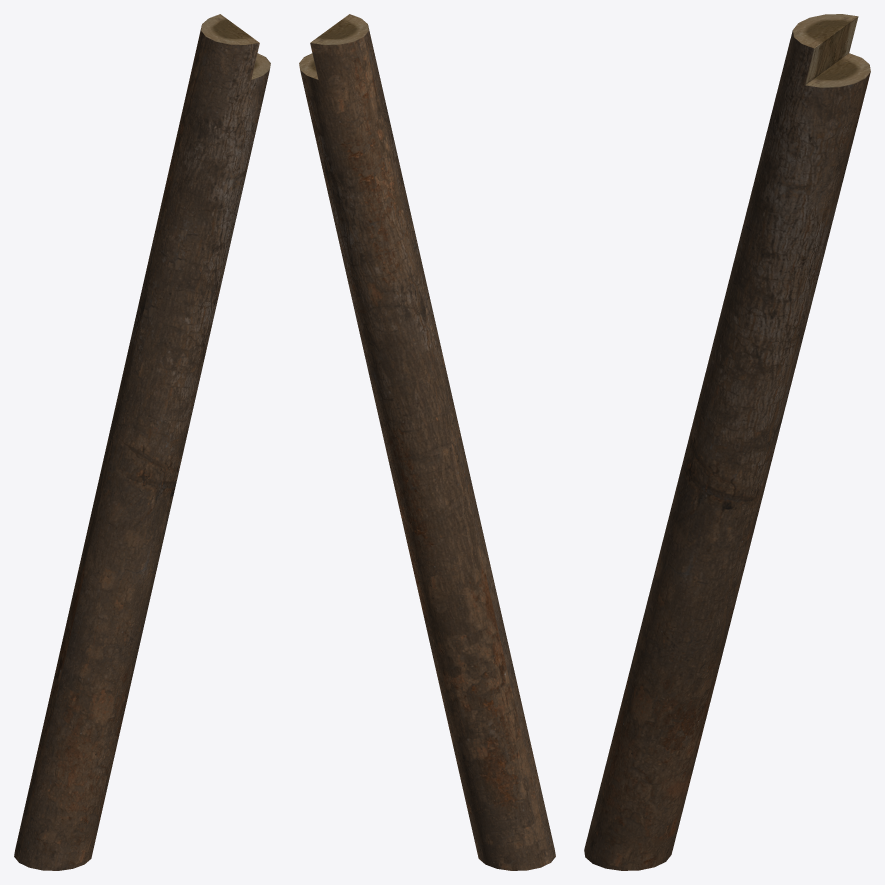
File: ThreeSupportBC.glb
3 renders of one model, left to right at view 1: azimuth 30°, elevation 25°; view 2: azimuth 150°, elevation 25°; view 3: azimuth 330°, elevation 25°, orthographic. The views are drawn at different scales.
Visible parts, largest first — view 1: ThreeSupportBC; view 2: ThreeSupportBC; view 3: ThreeSupportBC.
Part boxes in pixels (x1=…): ThreeSupportBC: x1=14, y1=14, x2=270, y2=870; ThreeSupportBC: x1=299, y1=14, x2=555, y2=870; ThreeSupportBC: x1=584, y1=14, x2=870, y2=870.
Bounding box in the file's own units: 0.7222 × 2.18 × 0.2001.
1 material, 1 textured.
